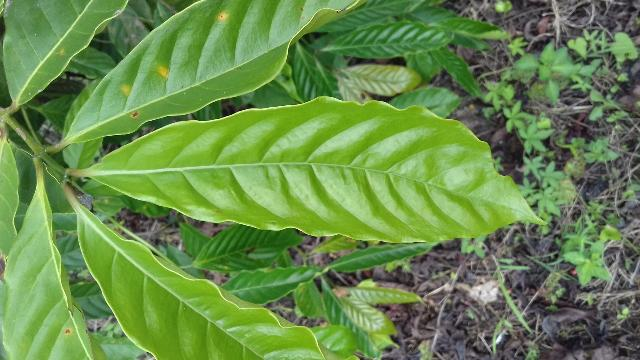healthy: (70, 98, 545, 243)
